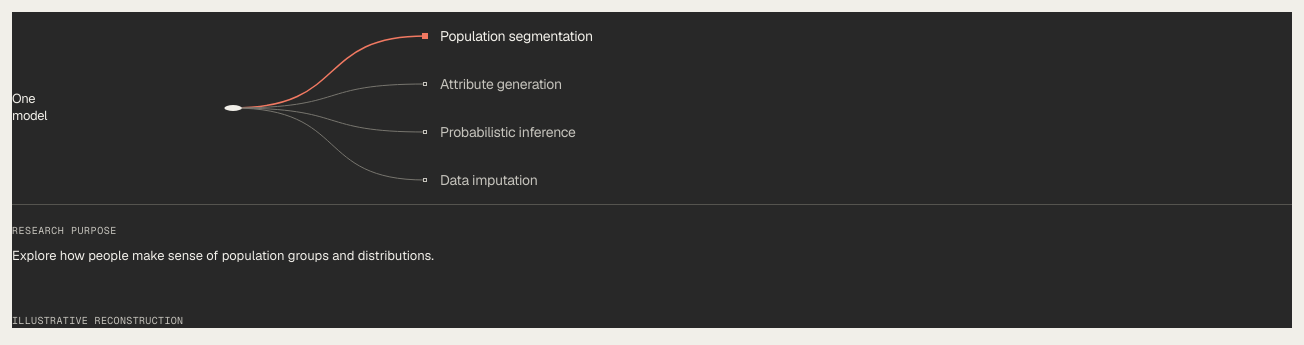
PMF capability exploration by mouse › connects Probabilistic inference to its public research purpose
Click the button "Data imputation".
click(489, 180)  # box [425,156,1292,204]
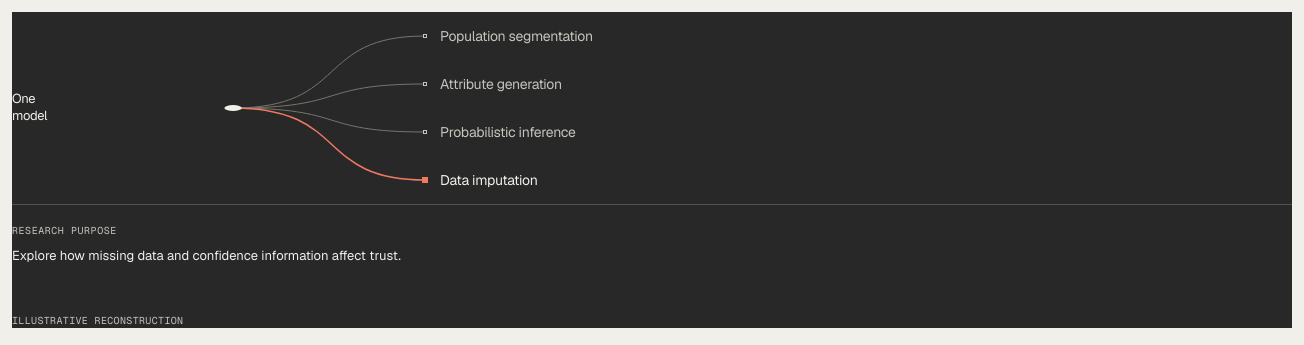
Hover over the button "Probabilistic inference".
mouse_move(508, 132)  # box [425,108,1292,156]
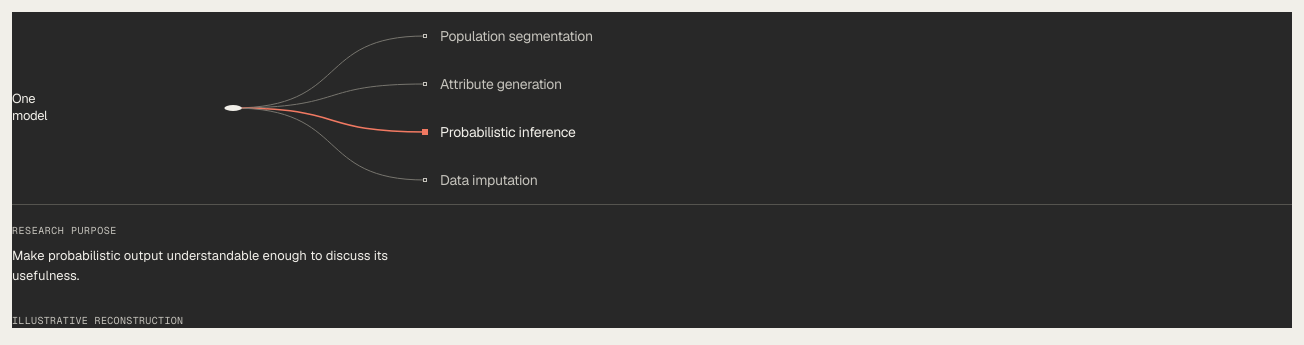
Check: the text "probabilistic output" is shown, box [12,247,388,284]
